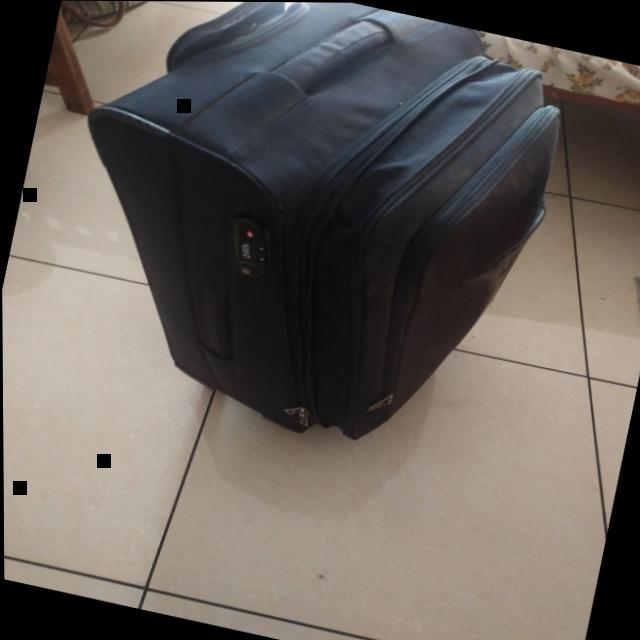luggage: (13, 0, 600, 496)
